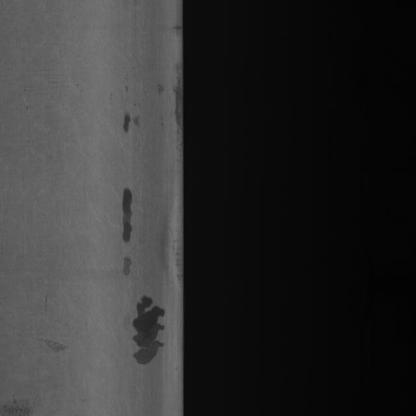oil_spot: (132, 290, 168, 368), (119, 174, 135, 284), (167, 58, 183, 132), (122, 110, 136, 132)
